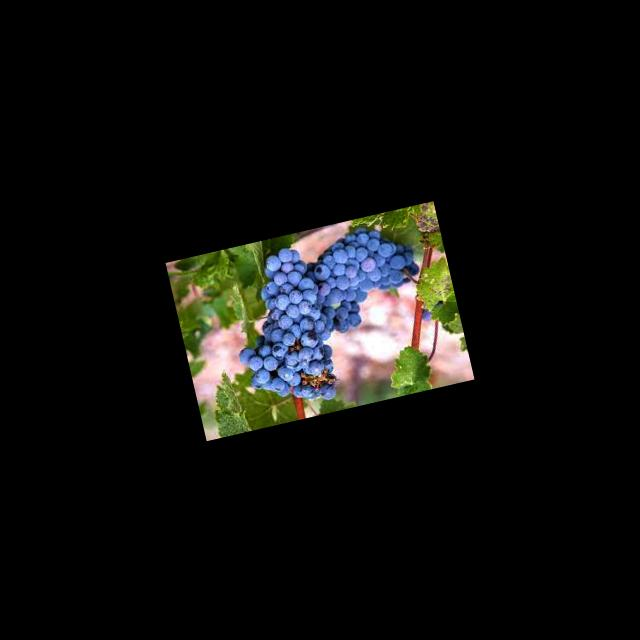grape: (216, 216, 444, 417)
